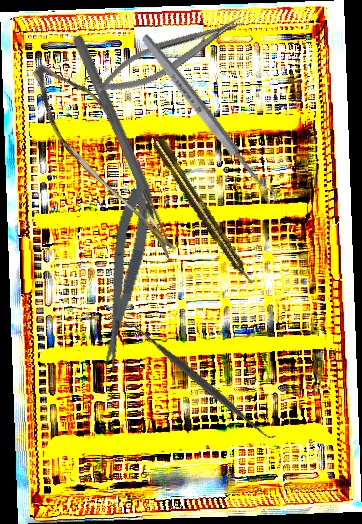Handpiece: (150, 136, 258, 289)
Micro Scissor: (2, 53, 217, 260), (89, 180, 158, 373)
Needle Holder: (89, 8, 252, 104)
Pusher: (69, 33, 179, 254)
Spatula Surgical: (119, 311, 279, 450)
Surgical Spoon: (137, 31, 281, 208)
